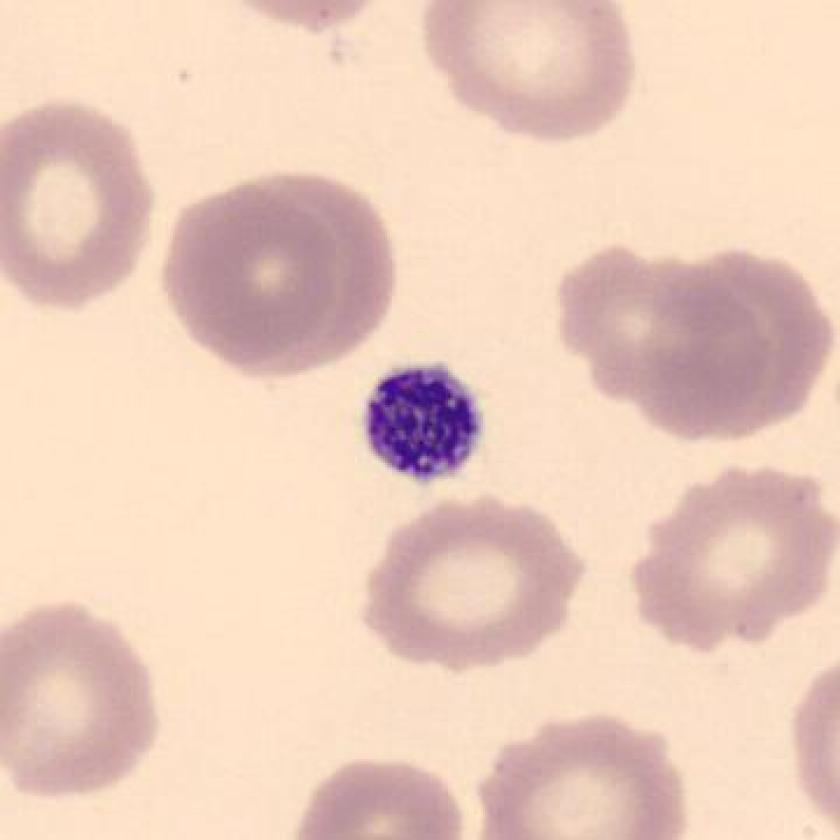platelets: (349, 355, 500, 492)
